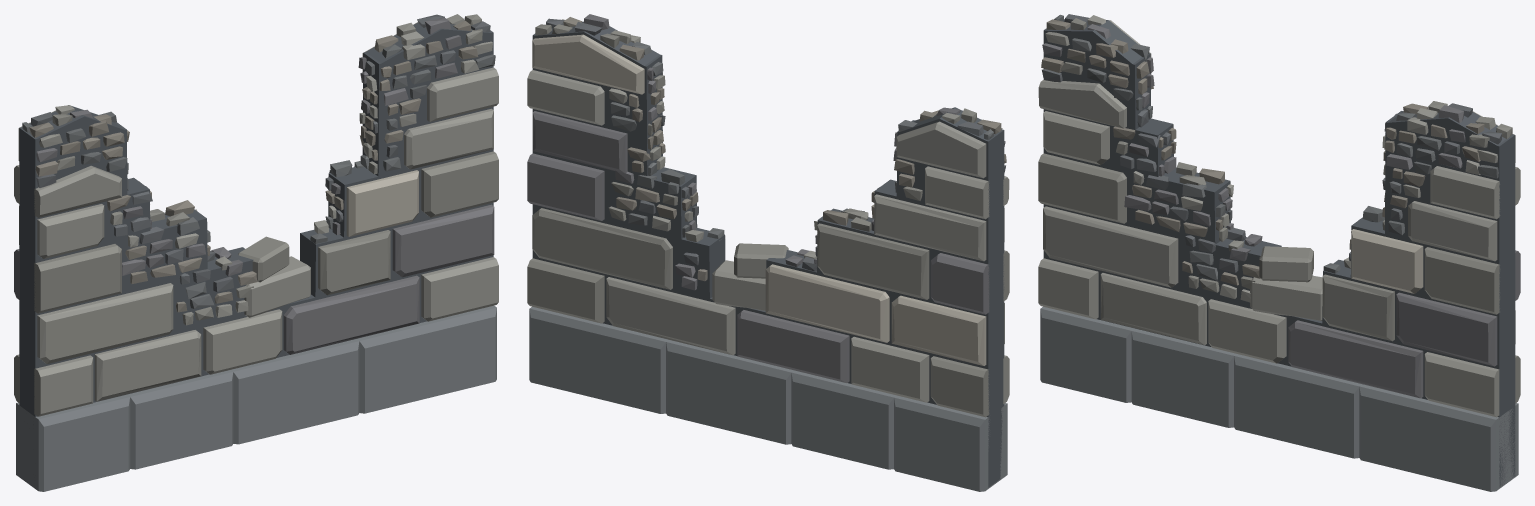
The model's file is SM_LPD_Struct_WallRuined_01.fbx.
The picture shows the model from 3 angles, left to right: view 1: azimuth 30°, elevation 25°; view 2: azimuth 150°, elevation 25°; view 3: azimuth 330°, elevation 25°; orthographic projection.
Visible parts, largest first — view 1: SM_LPD_Struct_WallRuined_01; view 2: SM_LPD_Struct_WallRuined_01; view 3: SM_LPD_Struct_WallRuined_01.
Boxes of the visible parts, x1,y1,x2,y2 form: SM_LPD_Struct_WallRuined_01: (14, 14, 498, 491); SM_LPD_Struct_WallRuined_01: (527, 14, 1009, 491); SM_LPD_Struct_WallRuined_01: (1038, 14, 1520, 491).
Bounding box in the file's own units: 4 × 3.05 × 0.4.
